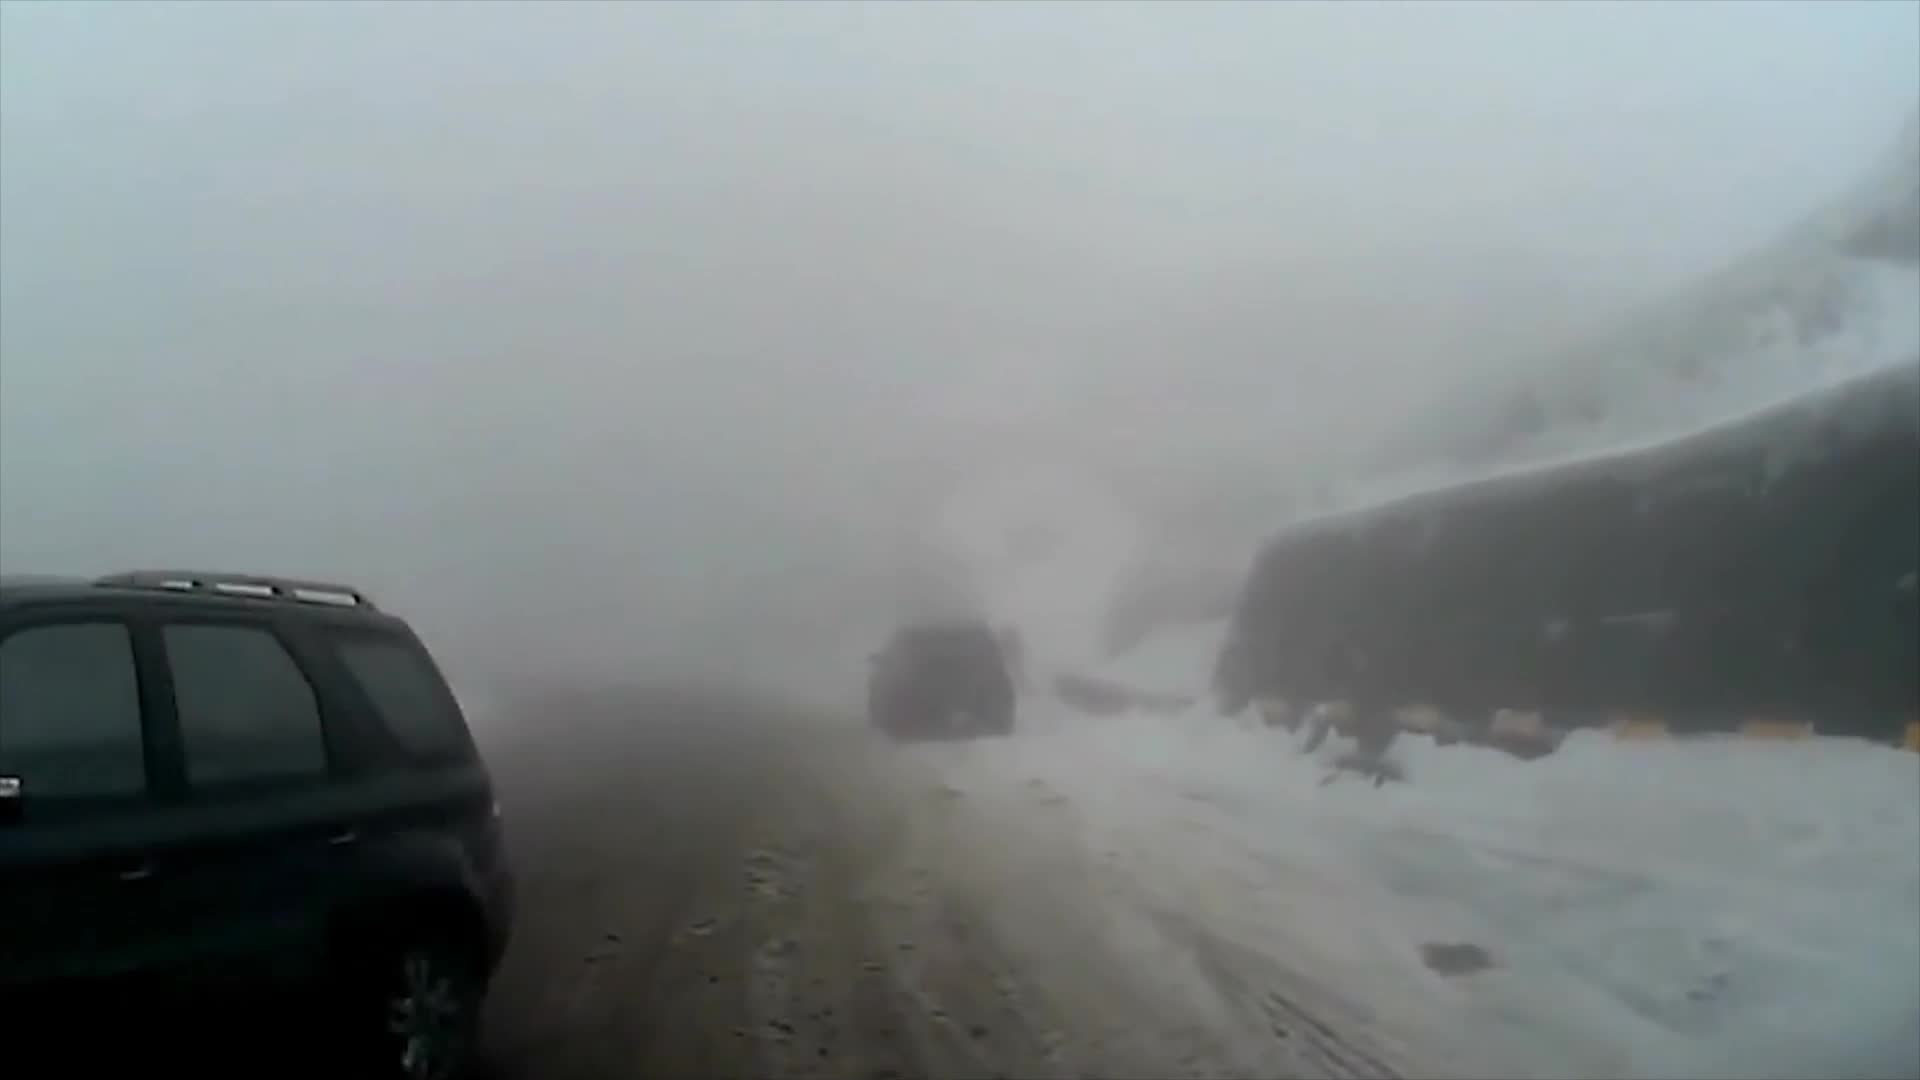vehicle: (0, 567, 516, 1077), (861, 616, 1013, 746)
